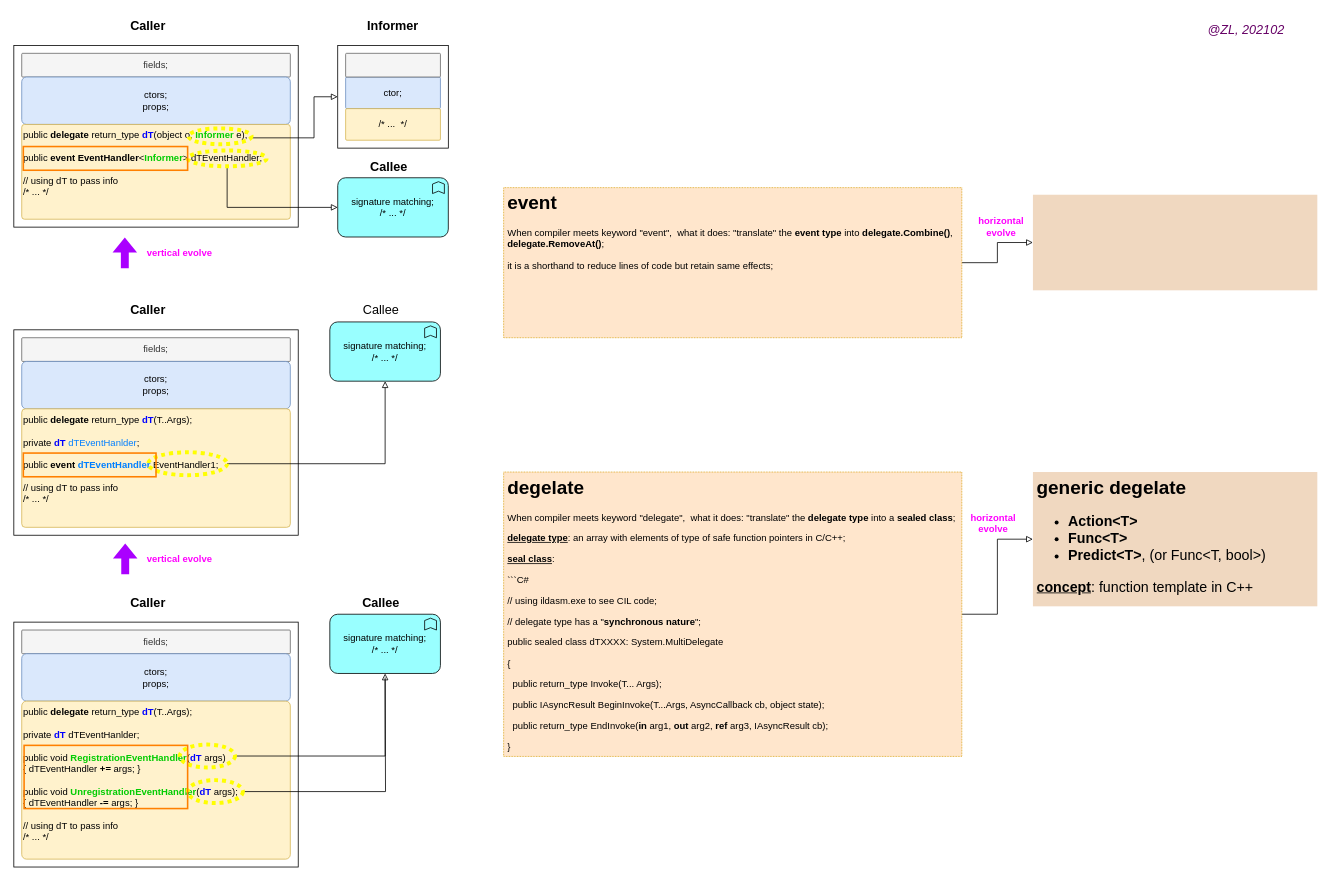
This 1331x881 diagram has some shape labels left out. The shapes that lost their labels are listed below. From the top down, each one's centre as x and y in pixels, then its label:
(x=392, y=65): fields( read-only );
(x=1175, y=242): generic event EventHandler<T> concept : function template in C++
